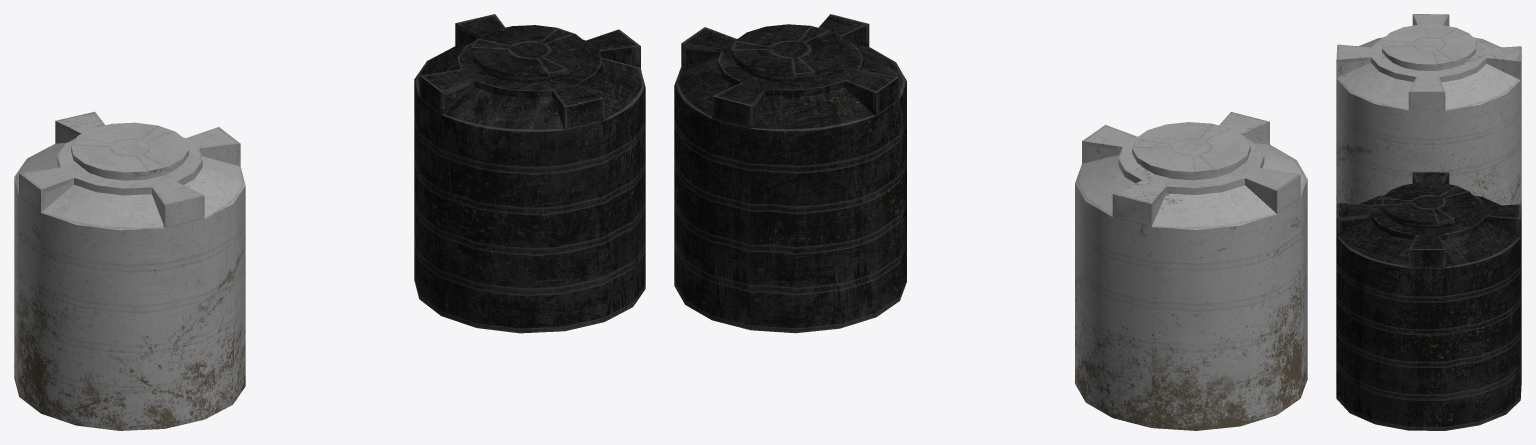
Rendered from overhead_water_tank.glb.
3 views of the same model, side by side, from view 1: azimuth 30°, elevation 25°; view 2: azimuth 150°, elevation 25°; view 3: azimuth 270°, elevation 25° (orthographic). The views are drawn at different scales.
Parts seen in each view (by area): view 1: water tank lp_water tank_0; view 2: water tank lp_water tank_0; view 3: water tank lp_water tank_0.
Part boxes in pixels (x1=…): water tank lp_water tank_0: x1=14, y1=14, x2=645, y2=430; water tank lp_water tank_0: x1=674, y1=14, x2=1307, y2=430; water tank lp_water tank_0: x1=1336, y1=14, x2=1521, y2=430.
Size of the model in its own units: 3.45 by 1.29 by 1.14.
Materials: 1 (1 with a texture image).
